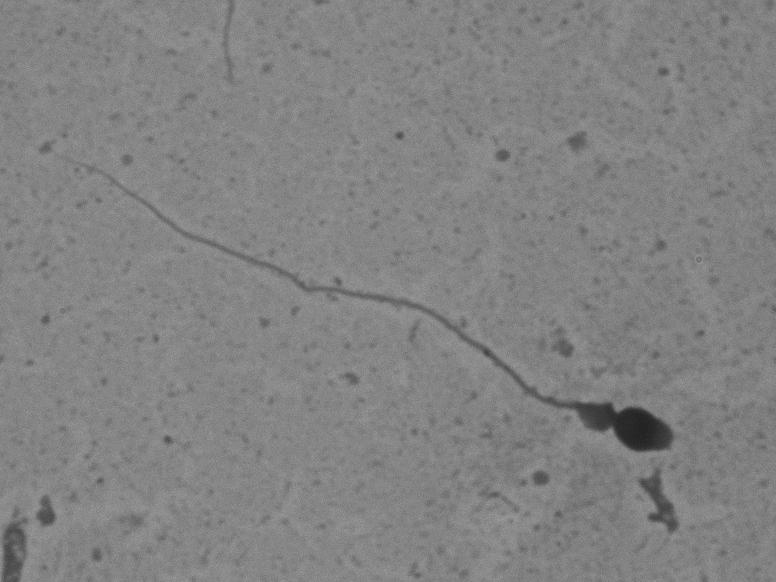Abnormal: (35, 121, 696, 469)
